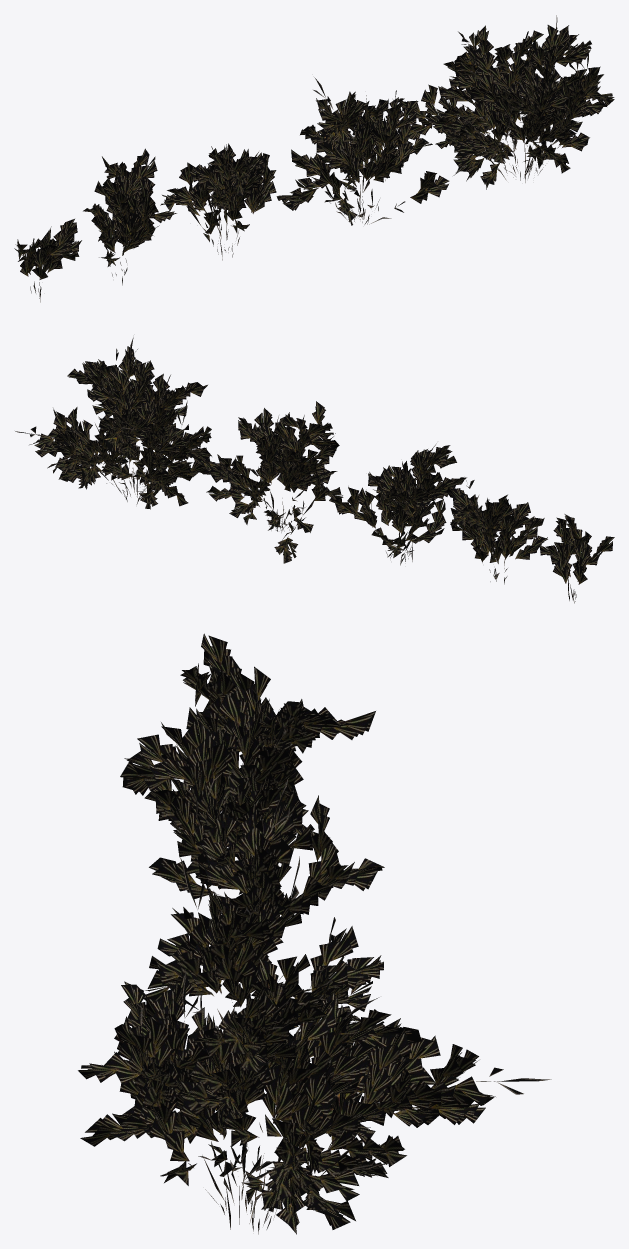
The model's file is wild_rooibos_bush.gltf.
The picture shows the model from 3 angles, top to bottom: view 1: azimuth 30°, elevation 25°; view 2: azimuth 150°, elevation 25°; view 3: azimuth 270°, elevation 25°; orthographic projection. The views are drawn at different scales.
Parts seen in each view (by area): view 1: wild_rooibos_bush_a; view 2: wild_rooibos_bush_a; view 3: wild_rooibos_bush_a.
Part boxes in pixels (x1,y1,x2,y2): wild_rooibos_bush_a: (14, 15, 614, 302); wild_rooibos_bush_a: (15, 337, 614, 603); wild_rooibos_bush_a: (78, 633, 551, 1234).
Bounding box in the file's own units: 2.27 × 0.5439 × 0.8433.
Materials: 3 (3 with a texture image).
